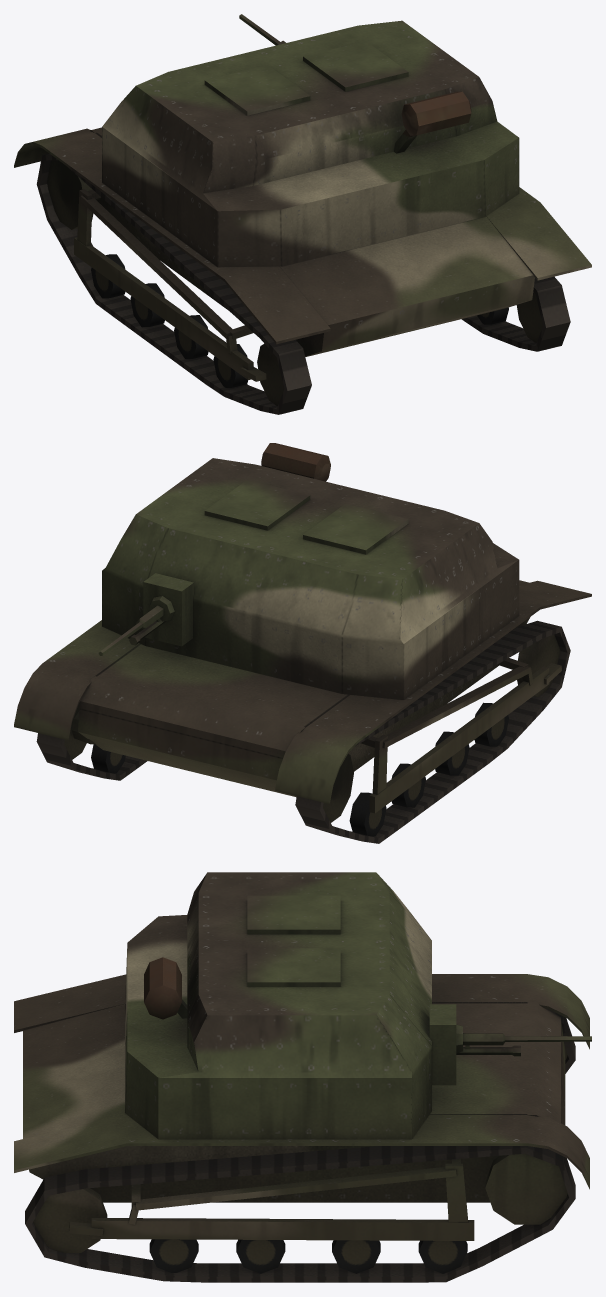
The model's file is TK3_MID.fbx.
3 renders of one model, top to bottom at view 1: azimuth 30°, elevation 25°; view 2: azimuth 150°, elevation 25°; view 3: azimuth 270°, elevation 25°, orthographic. The views are drawn at different scales.
Parts seen in each view (by area): view 1: Chassis, Chenille_Gauche_01, Chenille_Droite_01, Roue_G1, Roue_G6, Roue_D6, Roue_G4, Roue_G3, Roue_G2, Roue_G5; view 2: Chassis, Chenille_Gauche_01, Tourelle_01, Chenille_Droite_01, Roue_G6, Roue_G2, Roue_G1, Roue_D2, Roue_G5, Roue_G4, Roue_G3, Canon_01; view 3: Chassis, Chenille_Droite_01, Roue_D1, Roue_D6, Tourelle_01, Roue_D5, Roue_D4, Roue_D3, Roue_D2, Canon_01.
Boxes of the visible parts, <box> form: Chassis: <box>14,20,591,381</box>; Chenille_Gauche_01: <box>36,153,311,414</box>; Chenille_Droite_01: <box>461,276,570,351</box>; Roue_G1: <box>47,160,93,229</box>; Roue_G6: <box>257,343,284,405</box>; Roue_D6: <box>516,292,542,342</box>; Roue_G4: <box>174,315,208,358</box>; Roue_G3: <box>130,283,164,327</box>; Roue_G2: <box>91,254,125,298</box>; Roue_G5: <box>213,344,247,387</box>; Chassis: <box>14,443,591,813</box>; Chenille_Gauche_01: <box>295,620,570,843</box>; Tourelle_01: <box>143,573,193,646</box>; Chenille_Droite_01: <box>36,733,147,780</box>; Roue_G6: <box>517,634,560,696</box>; Roue_G2: <box>349,792,386,836</box>; Roue_G1: <box>323,754,353,822</box>; Roue_D2: <box>91,744,125,773</box>; Roue_G5: <box>474,702,508,746</box>; Roue_G4: <box>435,731,469,775</box>; Roue_G3: <box>391,763,425,807</box>; Canon_01: <box>98,605,163,655</box>; Chassis: <box>14,872,589,1240</box>; Chenille_Droite_01: <box>25,1146,575,1282</box>; Roue_D1: <box>485,1153,567,1224</box>; Roue_D6: <box>33,1188,107,1252</box>; Tourelle_01: <box>429,1004,462,1085</box>; Roue_D5: <box>149,1239,198,1272</box>; Roue_D4: <box>236,1239,285,1273</box>; Roue_D3: <box>332,1240,380,1273</box>; Roue_D2: <box>418,1240,467,1273</box>; Canon_01: <box>463,1033,591,1045</box>.
Bounding box in the file's own units: 180 × 260 × 136.
Materials: 1 (1 with a texture image).
